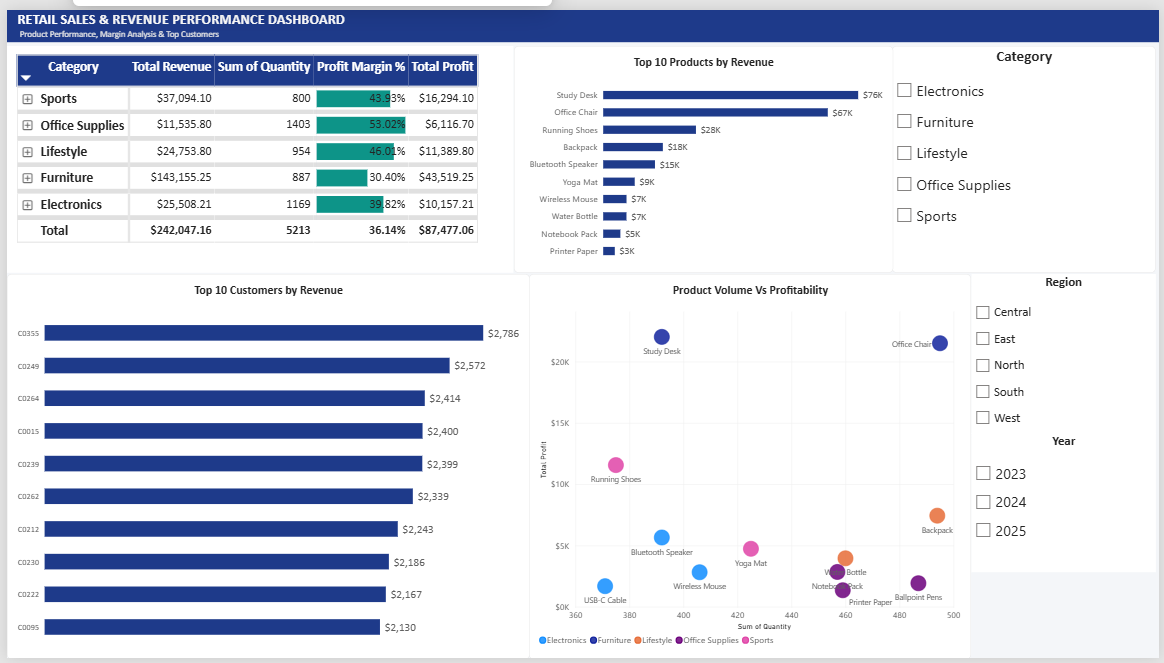

The page's visual inventory and layout, read from the dashboard file:
{"tool":"powerbi","page":{"name":"Product & Customer Analysis","canvas":[1920,1080],"ordinal":1},"visuals":[{"type":"slicer","title":"Year","fields":{"Values":["DateTable.Year"]},"box":[1607.8,705.1,307.4,231.8],"z":0},{"type":"slicer","title":"Region","fields":{"Values":["Sales.Region"]},"box":[1607.8,439.2,307.4,265.9],"z":1000},{"type":"slicer","title":"Category","fields":{"Values":["Sales.Category"]},"box":[1476.1,61,439.2,378.2],"z":2000},{"type":"shape","box":[0,0,1920.1,53.7],"z":3000},{"type":"textbox","box":[0,0,1920.1,53.7],"z":4000},{"type":"textbox","box":[17.1,0,1903.1,53.7],"z":5000},{"type":"pivotTable","title":"Un","fields":{"Rows":["Sales.Category","Sales.Product"],"Values":["Sales.Total Revenue","Sum(Sales.Quantity)","Sales.Profit Margin %","Sales.Total Profit"]},"box":[0,61,844.2,378.2],"z":6000},{"type":"clusteredBarChart","title":"Top 10 Products by Revenue","fields":{"Category":["Sales.Product"],"Y":["Sales.Total Revenue"]},"box":[844.2,61,631.9,378.2],"z":7000},{"type":"clusteredBarChart","title":"Top 10 Customers by Revenue","fields":{"Category":["Sales.Customer_ID"],"Y":["Sales.Total Revenue"]},"box":[0,439.2,871,641.7],"z":8000},{"type":"scatterChart","title":"Product Volume Vs Profitability","fields":{"Category":["Sales.Product"],"Series":["Sales.Category"],"X":["Sum(Sales.Quantity)"],"Y":["Sales.Total Profit"]},"box":[871,439.2,736.8,641.7],"z":9000}]}

Visuals, with their boxes in screenshot pixels (x1, y1, x2, y2), scaled from the page's 1920x1080 canvas onto the 1164x663 screenshot:
"Year" slicer: (975, 433, 1161, 575)
"Region" slicer: (975, 270, 1161, 433)
"Category" slicer: (895, 37, 1161, 270)
shape: (0, 0, 1163, 33)
textbox: (0, 0, 1163, 33)
textbox: (10, 0, 1163, 33)
"Un" pivotTable: (0, 37, 512, 270)
"Top 10 Products by Revenue" clusteredBarChart: (512, 37, 895, 270)
"Top 10 Customers by Revenue" clusteredBarChart: (0, 270, 528, 662)
"Product Volume Vs Profitability" scatterChart: (528, 270, 975, 662)
